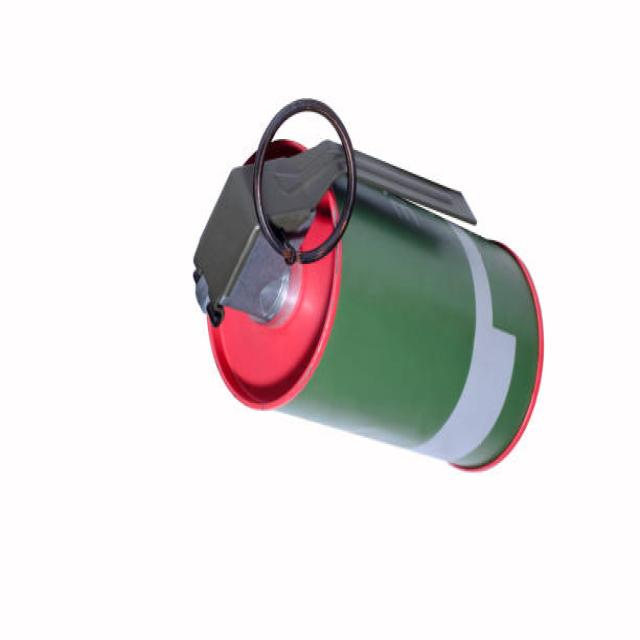grenade: (191, 92, 554, 485)
